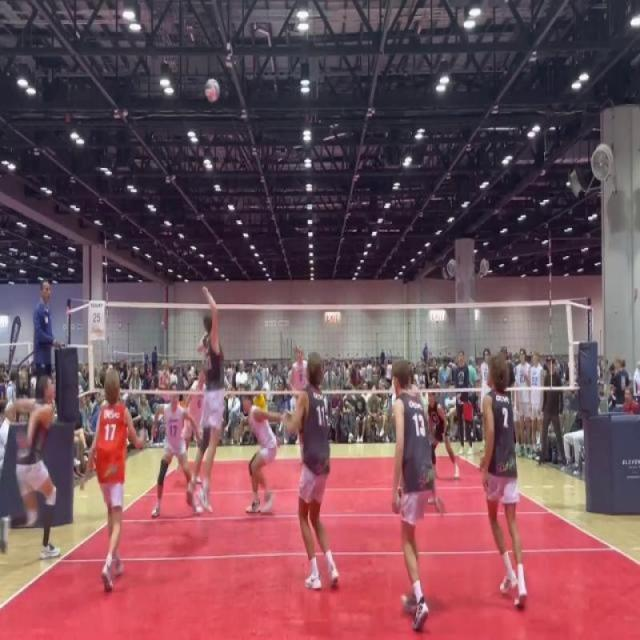volleyball: (202, 74, 222, 106)
